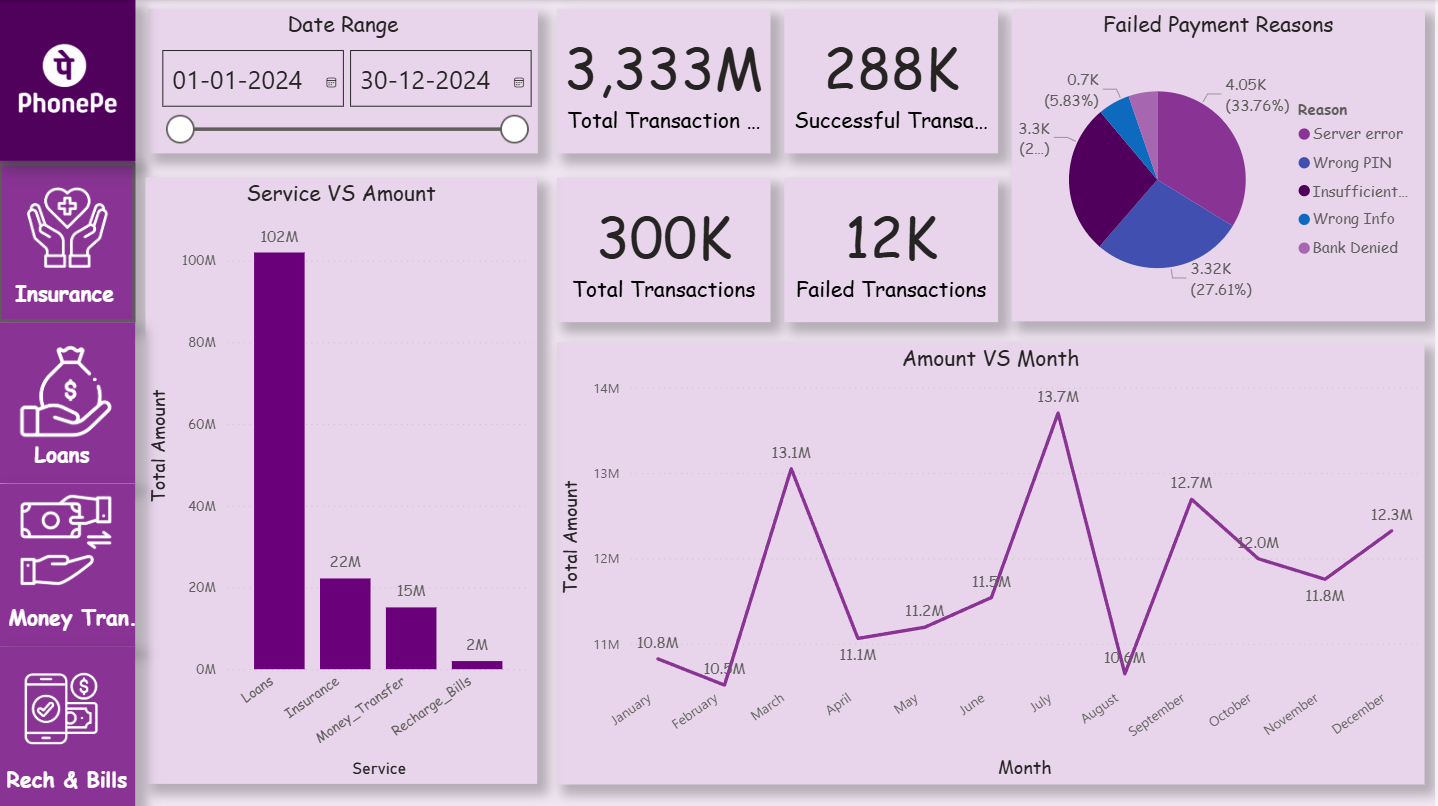

The dashboard page shown, as its layout file describes it:
{"tool":"powerbi","page":{"name":"Home","canvas":[1280,720],"ordinal":0},"visuals":[{"type":"shape","box":[0.2,0,122.7,143.6],"z":0,"group":"g1"},{"type":"shape","box":[0,142.3,122.1,144.8],"z":0},{"type":"image","box":[13.5,150.9,96.9,101.8],"z":1000},{"type":"shape","box":[0,287.1,122.1,143.6],"z":1000,"group":"g2"},{"type":"textbox","box":[2.5,242.9,114.1,44.2],"z":2000},{"type":"shape","box":[0,430.7,122.1,144.8],"z":2000,"group":"g3"},{"type":"slicer","title":"Date Range","fields":{"Values":["All_Transactions.Date"]},"box":[133.1,8.2,347.2,129],"z":3000},{"type":"shape","box":[0,575.5,122.1,143.6],"z":3000,"group":"g4"},{"type":"card","title":"Total Transaction Amount","fields":{"Values":["Sum(All_Transactions.Amount)"]},"box":[498.1,8.2,190.7,129],"z":4000},{"type":"image","box":[11,295.7,101.8,101.8],"z":4000,"group":"g2"},{"type":"image","box":[9.8,23.3,103.1,98.2],"z":5000,"group":"g1"},{"type":"card","title":"Total Transaction Amount","fields":{"Values":["Count(All_Transactions.Transaction_ID)"]},"box":[498.1,157.8,190.7,129],"z":5000},{"type":"image","box":[13.5,586.6,85.9,89.6],"z":5000,"group":"g4"},{"type":"card","title":"Total Transaction Amount","fields":{"Values":["Count(All_Transactions.Transaction_ID)"]},"box":[699.8,8.2,190.7,129],"z":6000},{"type":"image","box":[9.8,430.7,100.6,100.6],"z":6000,"group":"g3"},{"type":"card","title":"Total Transaction Amount","fields":{"Values":["Count(All_Transactions.Transaction_ID)"]},"box":[699.8,157.8,190.7,129],"z":7000},{"type":"pieChart","title":"Failed Payment Reasons","fields":{"Category":["All_Transactions.Reason"],"Y":["CountNonNull(All_Transactions.Reason)"]},"box":[902.9,8.2,367.8,278.6],"z":8000},{"type":"lineChart","title":"Amount VS Month","fields":{"Category":["All_Transactions.Date.Variation.Date Hierarchy.Month"],"Y":["Sum(All_Transactions.Amount)"]},"box":[498.1,304.6,772.6,393.8],"z":9000},{"type":"textbox","box":[0,386.5,114.1,44.2],"z":9000,"group":"g2"},{"type":"clusteredColumnChart","title":"Service VS Amount ","fields":{"Category":["All_Transactions.Service"],"Y":["Sum(All_Transactions.Amount)"]},"box":[131.3,158.3,348.5,539.9],"z":10000},{"type":"textbox","box":[0,531.3,133.7,44.2],"z":10000,"group":"g3"},{"type":"actionButton","box":[0,144.8,122.7,142.3],"z":11000},{"type":"textbox","box":[0,676.1,122.7,44.2],"z":11000,"group":"g4"},{"type":"group","id":"g1","title":"Group 1","box":[0.2,0,122.7,143.6],"z":12000},{"type":"group","id":"g2","title":"Group 2","box":[0,287.1,122.1,143.6],"z":13000},{"type":"group","id":"g3","title":"Group 3","box":[0,430.7,133.7,144.8],"z":14000},{"type":"group","id":"g4","title":"Group 4","box":[0,141.3,122.7,579],"z":15000},{"type":"actionButton","box":[0,283.4,122.7,144.8],"z":16000},{"type":"actionButton","box":[0,428.2,122.7,144.8],"z":17000},{"type":"actionButton","box":[0,575.5,122.7,144.8],"z":18000},{"type":"actionButton","box":[0,141.3,122.7,144.8],"z":21004,"group":"g4"}]}

Visuals, with their boxes in screenshot pixels (x1, y1, x2, y2), scaled from the page's 1280x720 canvas onto the 1438x806 screenshot:
shape: {"left": 0, "top": 0, "right": 138, "bottom": 161}
shape: {"left": 0, "top": 159, "right": 137, "bottom": 321}
image: {"left": 15, "top": 169, "right": 124, "bottom": 283}
shape: {"left": 0, "top": 321, "right": 137, "bottom": 482}
textbox: {"left": 3, "top": 272, "right": 131, "bottom": 321}
shape: {"left": 0, "top": 482, "right": 137, "bottom": 644}
"Date Range" slicer: {"left": 150, "top": 9, "right": 540, "bottom": 154}
shape: {"left": 0, "top": 644, "right": 137, "bottom": 805}
"Total Transaction Amount" card: {"left": 560, "top": 9, "right": 774, "bottom": 154}
image: {"left": 12, "top": 331, "right": 127, "bottom": 445}
image: {"left": 11, "top": 26, "right": 127, "bottom": 136}
"Total Transaction Amount" card: {"left": 560, "top": 177, "right": 774, "bottom": 321}
image: {"left": 15, "top": 657, "right": 112, "bottom": 757}
"Total Transaction Amount" card: {"left": 786, "top": 9, "right": 1000, "bottom": 154}
image: {"left": 11, "top": 482, "right": 124, "bottom": 595}
"Total Transaction Amount" card: {"left": 786, "top": 177, "right": 1000, "bottom": 321}
"Failed Payment Reasons" pieChart: {"left": 1014, "top": 9, "right": 1428, "bottom": 321}
"Amount VS Month" lineChart: {"left": 560, "top": 341, "right": 1428, "bottom": 782}
textbox: {"left": 0, "top": 433, "right": 128, "bottom": 482}
"Service VS Amount " clusteredColumnChart: {"left": 148, "top": 177, "right": 539, "bottom": 782}
textbox: {"left": 0, "top": 595, "right": 150, "bottom": 644}
actionButton: {"left": 0, "top": 162, "right": 138, "bottom": 321}
textbox: {"left": 0, "top": 757, "right": 138, "bottom": 805}
"Group 1" group: {"left": 0, "top": 0, "right": 138, "bottom": 161}
"Group 2" group: {"left": 0, "top": 321, "right": 137, "bottom": 482}
"Group 3" group: {"left": 0, "top": 482, "right": 150, "bottom": 644}
"Group 4" group: {"left": 0, "top": 158, "right": 138, "bottom": 805}
actionButton: {"left": 0, "top": 317, "right": 138, "bottom": 479}
actionButton: {"left": 0, "top": 479, "right": 138, "bottom": 641}
actionButton: {"left": 0, "top": 644, "right": 138, "bottom": 805}
actionButton: {"left": 0, "top": 158, "right": 138, "bottom": 320}
